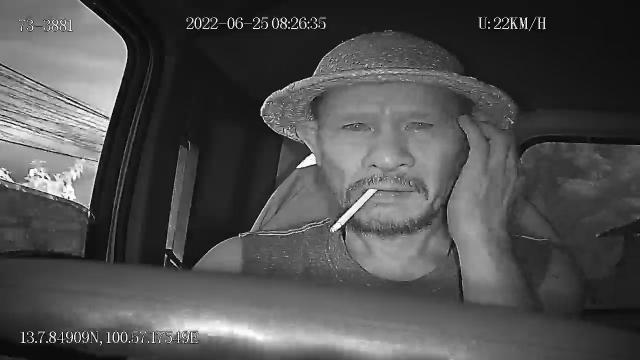SafeDriving: (398, 110, 444, 138), (336, 112, 380, 136)
Smoking: (330, 187, 378, 236)
